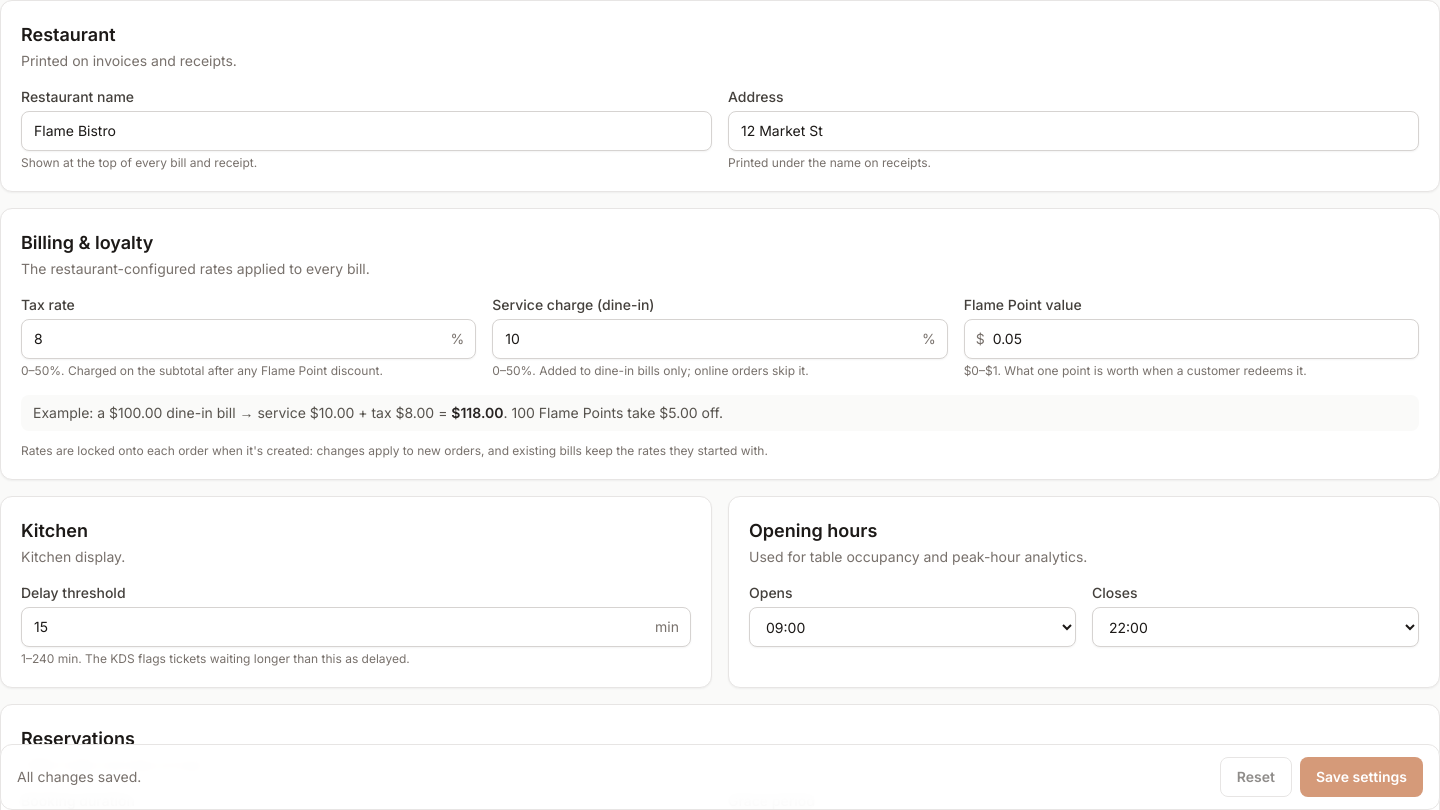
Test: SettingsForm › shows a validation error and blocks submission when a required field is cleared
Clear the field showing "Flame Bistro" at [366, 131], box [21,111,712,151]
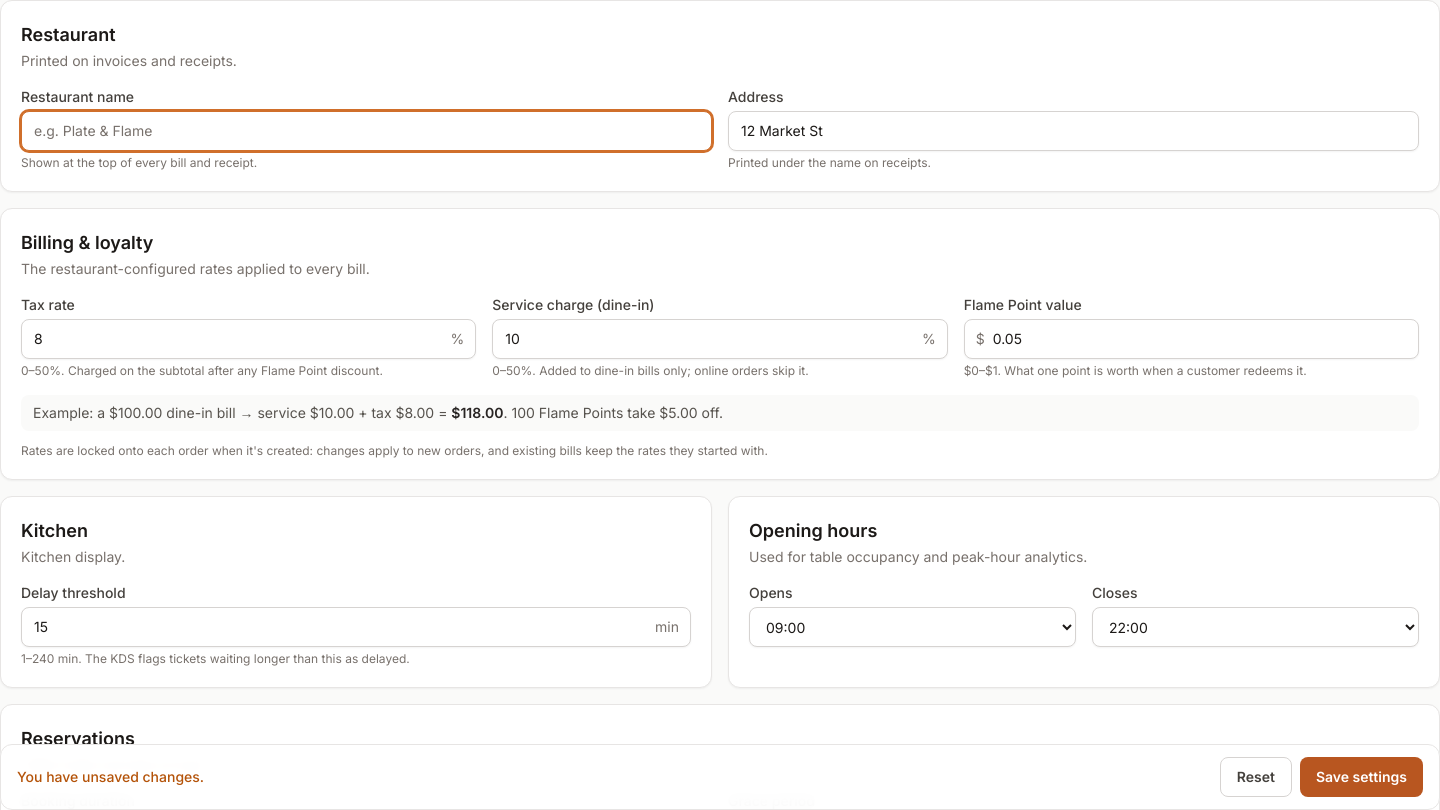
Click the button "Save settings".
click(1361, 777)  # box [1300,757,1423,797]
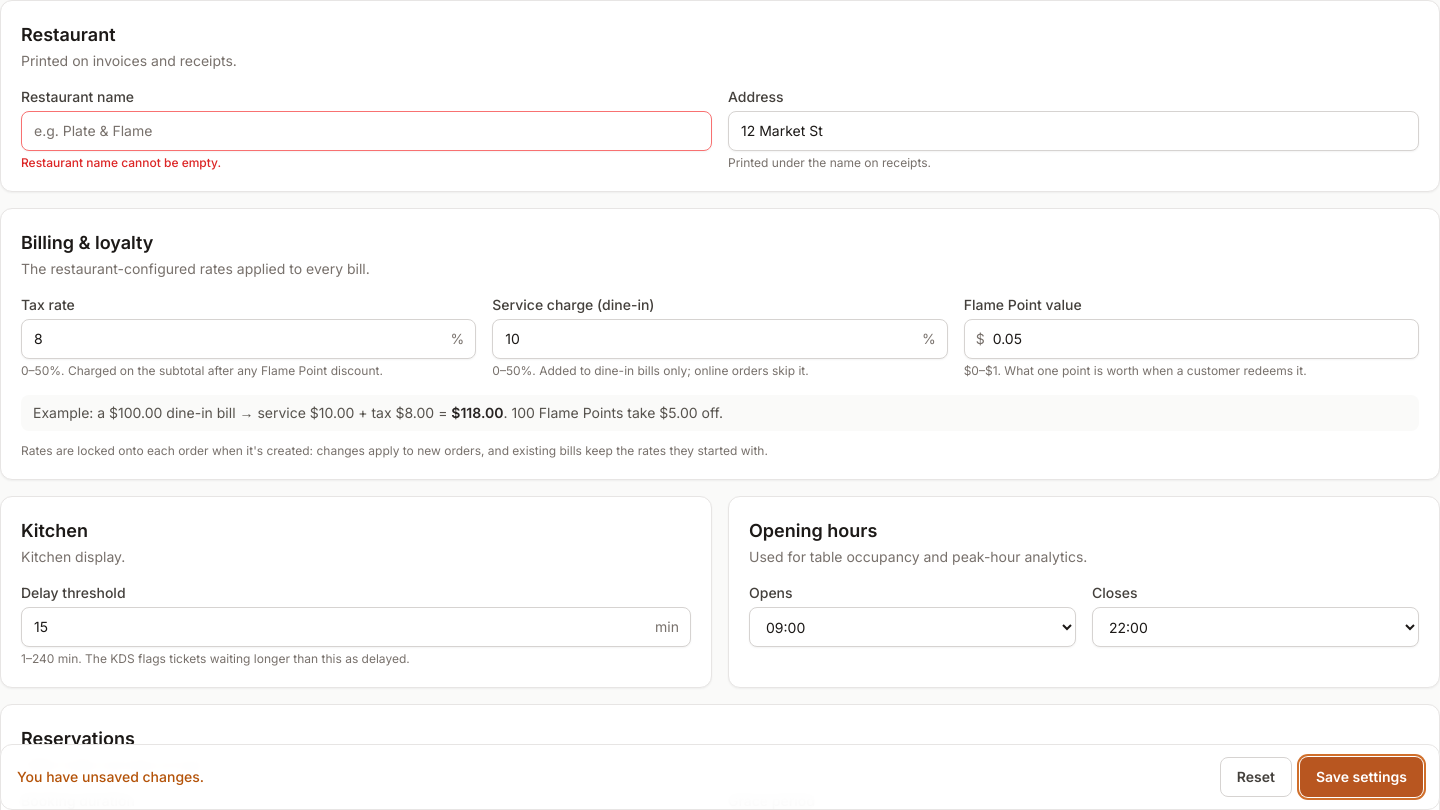
Expected: the text "Restaurant name cannot be empty." is shown, [21,155,221,170]
